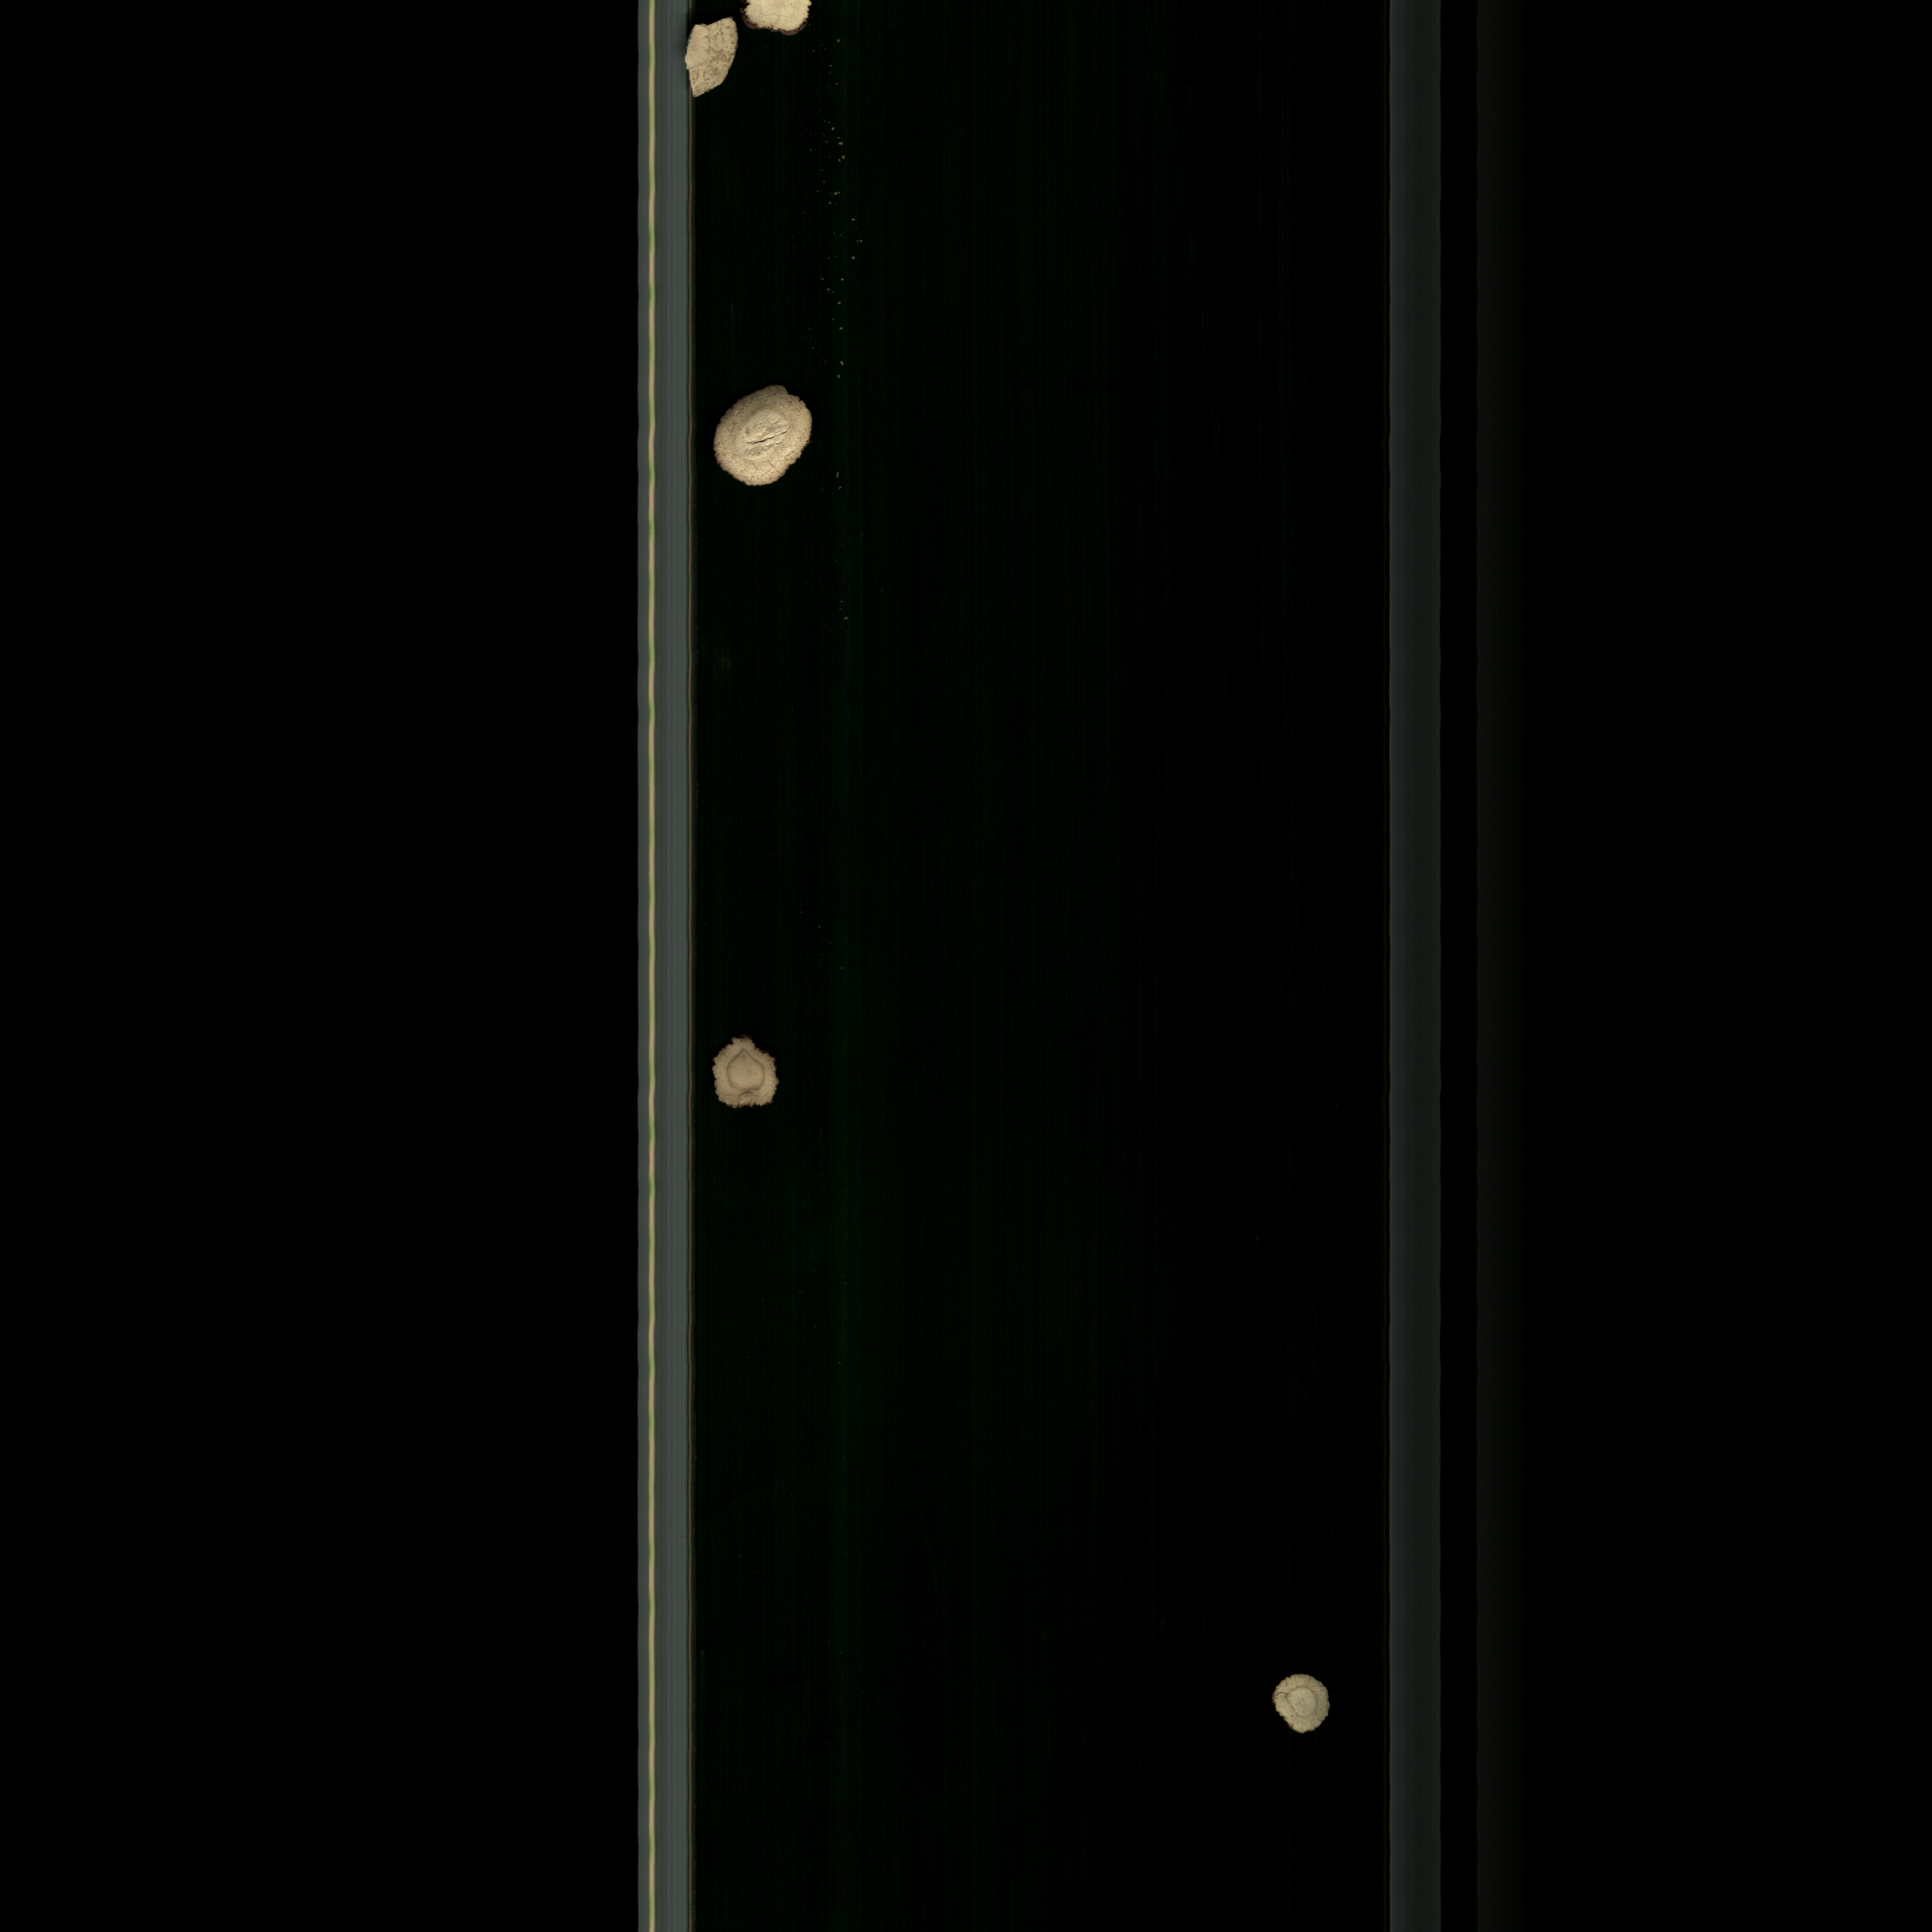debris: (679, 12, 748, 104)
moldy: (704, 1031, 798, 1122)
